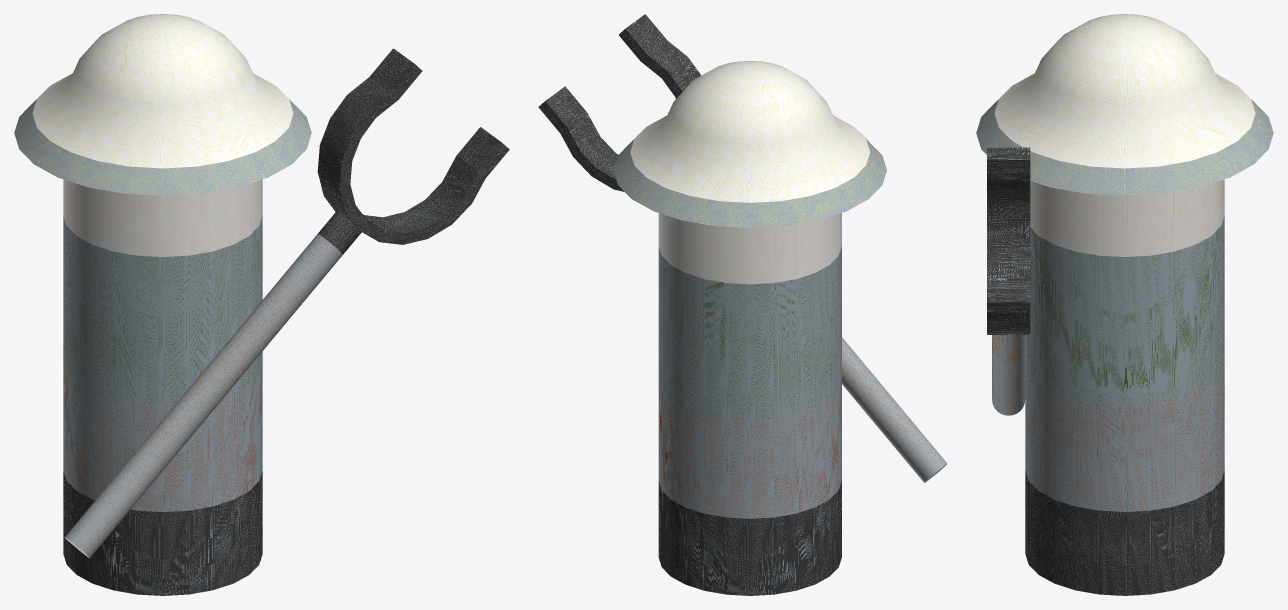
The model's file is Peasant.fbx.
3 views of the same model, side by side, from view 1: azimuth 30°, elevation 25°; view 2: azimuth 150°, elevation 25°; view 3: azimuth 270°, elevation 25° (orthographic). The views are drawn at different scales.
Parts seen in each view (by area): view 1: Model; view 2: Model; view 3: Model.
Boxes of the visible parts, <box> form: Model: <box>14,14,509,595</box>; Model: <box>538,14,947,595</box>; Model: <box>976,14,1273,595</box>.
Bounding box in the file's own units: 1.6 × 1.88 × 0.9551.
